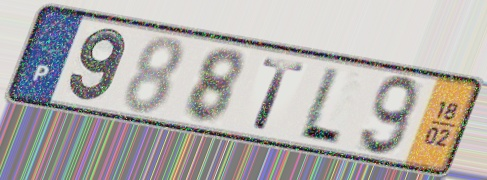8: (120, 33, 190, 118), (182, 45, 248, 127)
9: (358, 72, 422, 159), (64, 25, 130, 105)
L: (294, 63, 345, 147)
T: (250, 55, 309, 134)
